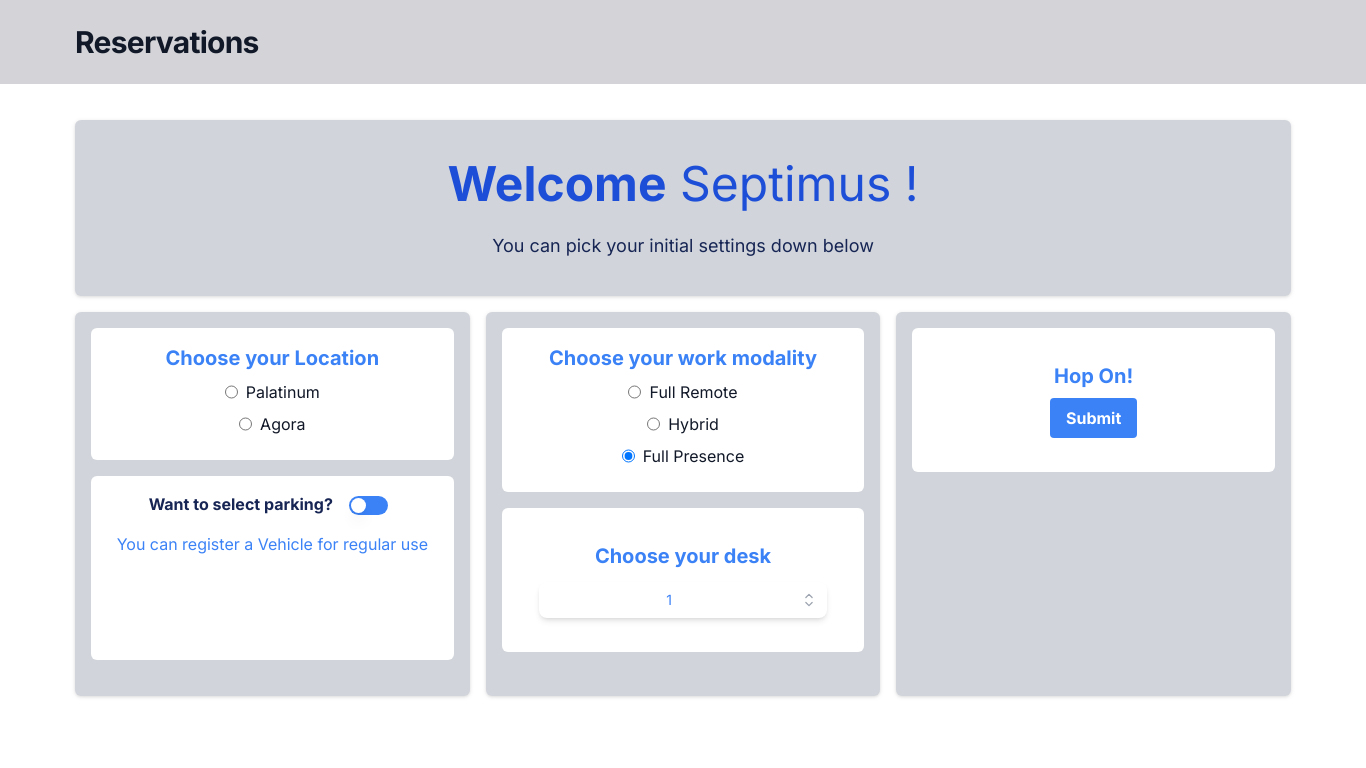
it: Reservations Page Test Suite › Switches a Toggle button to display vehicle plate form
The image size is (1366, 768).
# Toggle button
Click the switch with test id "toggleSwitch" at (368, 506), box [349,496,388,515]
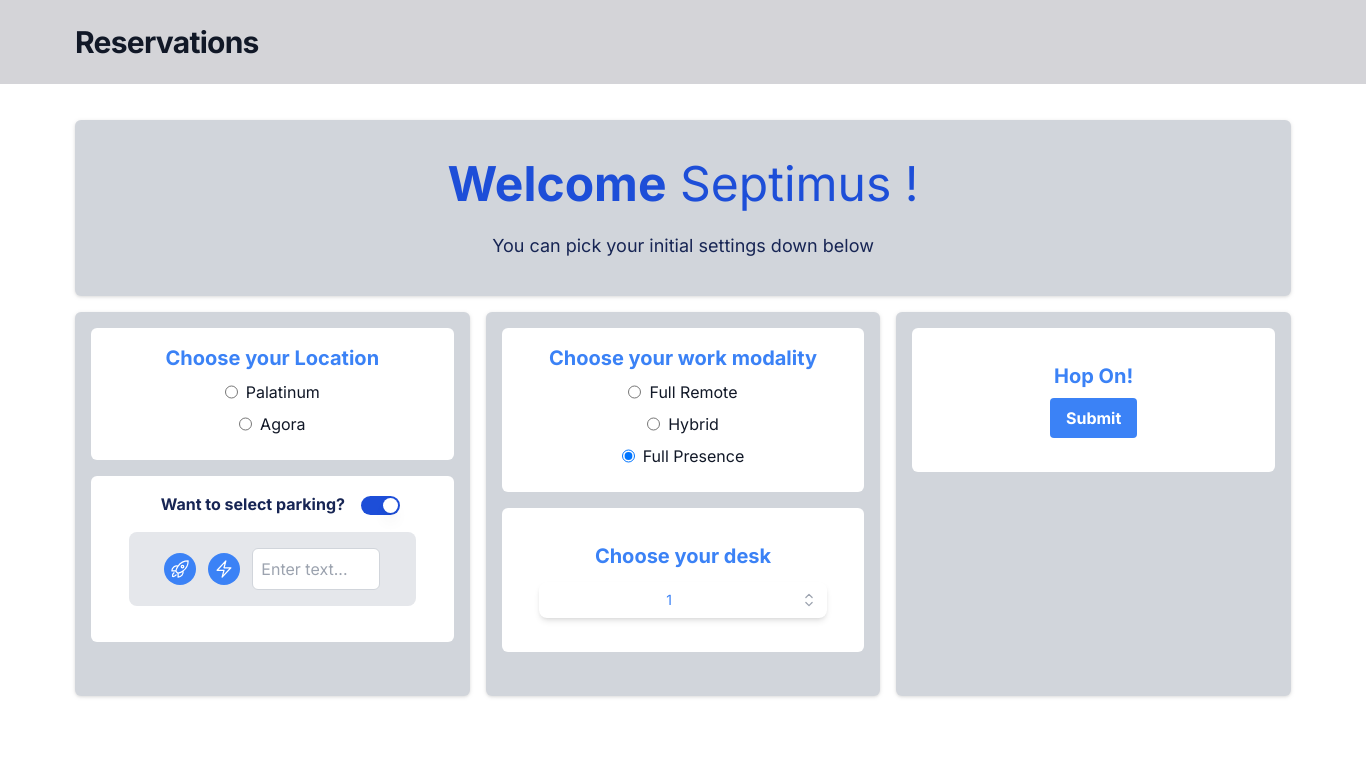
expect the field with test id "vehicle-plate" is shown: met, box [252,548,380,590]
